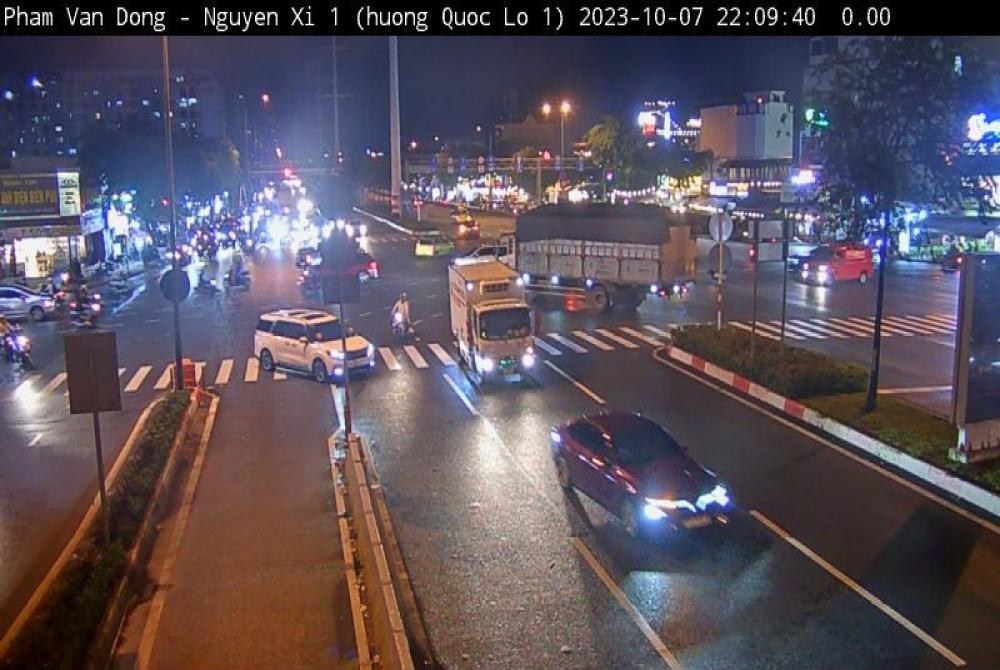car: (559, 407, 729, 545), (255, 313, 374, 384), (802, 241, 876, 289), (301, 247, 379, 290), (0, 287, 60, 323), (415, 236, 456, 259)
truck: (500, 206, 698, 313), (447, 262, 539, 381)
